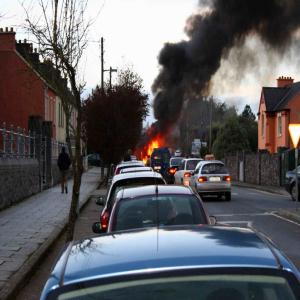Vehicle-registration-plate: (210, 177, 221, 183)
